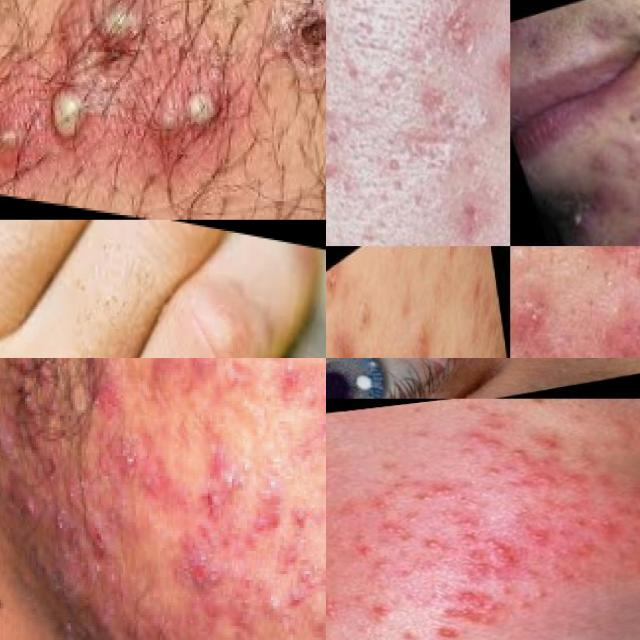acne_scars: (434, 182, 504, 246), (399, 72, 454, 146), (326, 140, 362, 210), (482, 36, 510, 99), (435, 586, 497, 611), (625, 246, 640, 262)
comedone: (445, 72, 510, 166), (399, 482, 466, 506), (371, 513, 409, 539), (326, 594, 354, 621), (518, 582, 549, 602), (479, 430, 506, 452), (502, 442, 529, 460)
cystic: (610, 85, 640, 149)
folliculitis: (82, 0, 153, 57), (178, 78, 238, 142), (46, 84, 97, 146), (0, 101, 44, 171), (148, 90, 191, 144)
papule: (407, 0, 510, 32), (343, 538, 380, 560)
pustule: (479, 532, 516, 557), (422, 623, 459, 640), (417, 532, 450, 551), (599, 511, 624, 529)
sebo-crystan-conglo: (604, 227, 640, 246)
